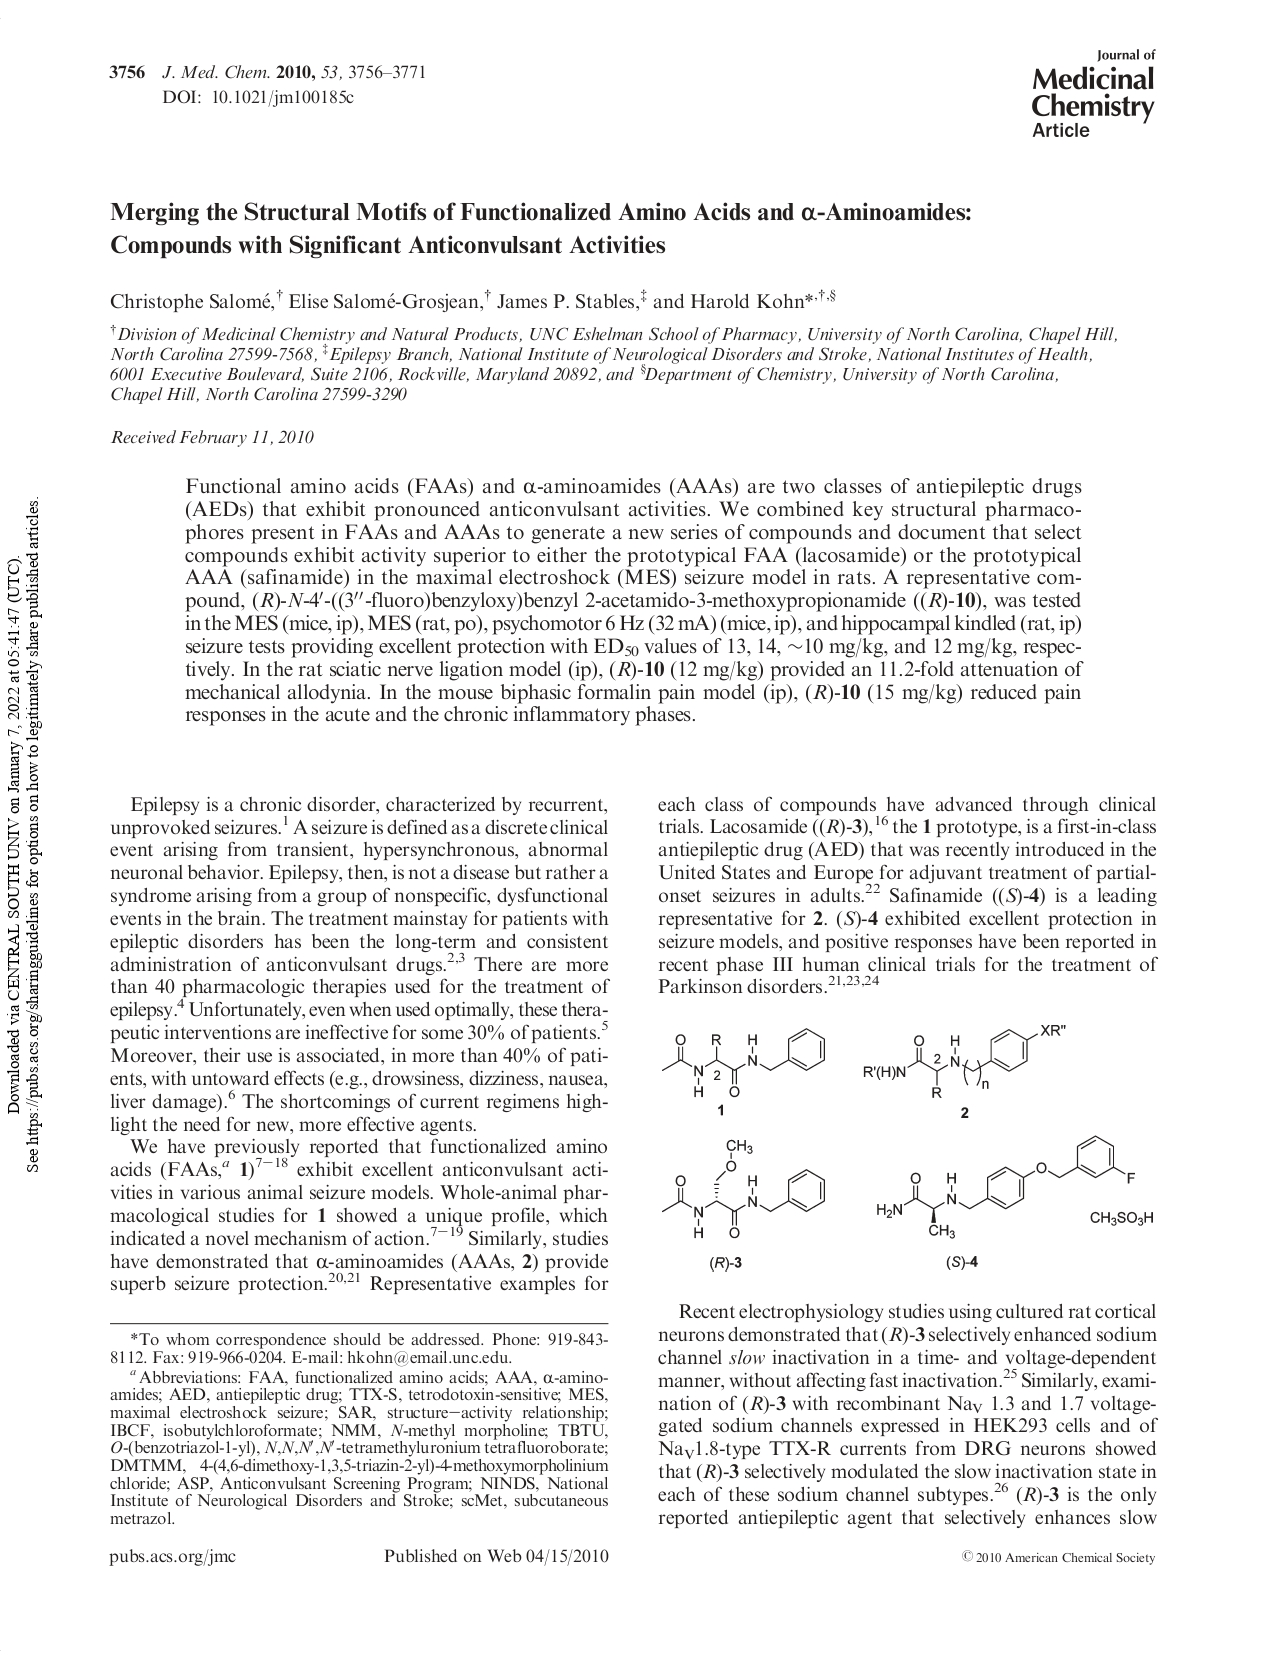exist_molecular: (866, 1122, 1138, 1247), (658, 1138, 832, 1279), (859, 1009, 1075, 1108), (654, 1025, 832, 1100)
